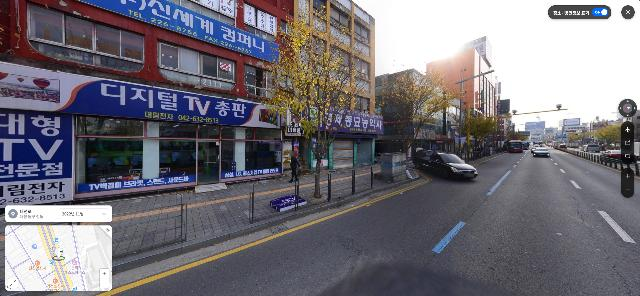ginkgo: (253, 1, 370, 198), (378, 60, 464, 166), (454, 109, 487, 159), (612, 116, 632, 148), (596, 116, 616, 146)
other: (484, 121, 499, 154), (492, 124, 509, 152)
